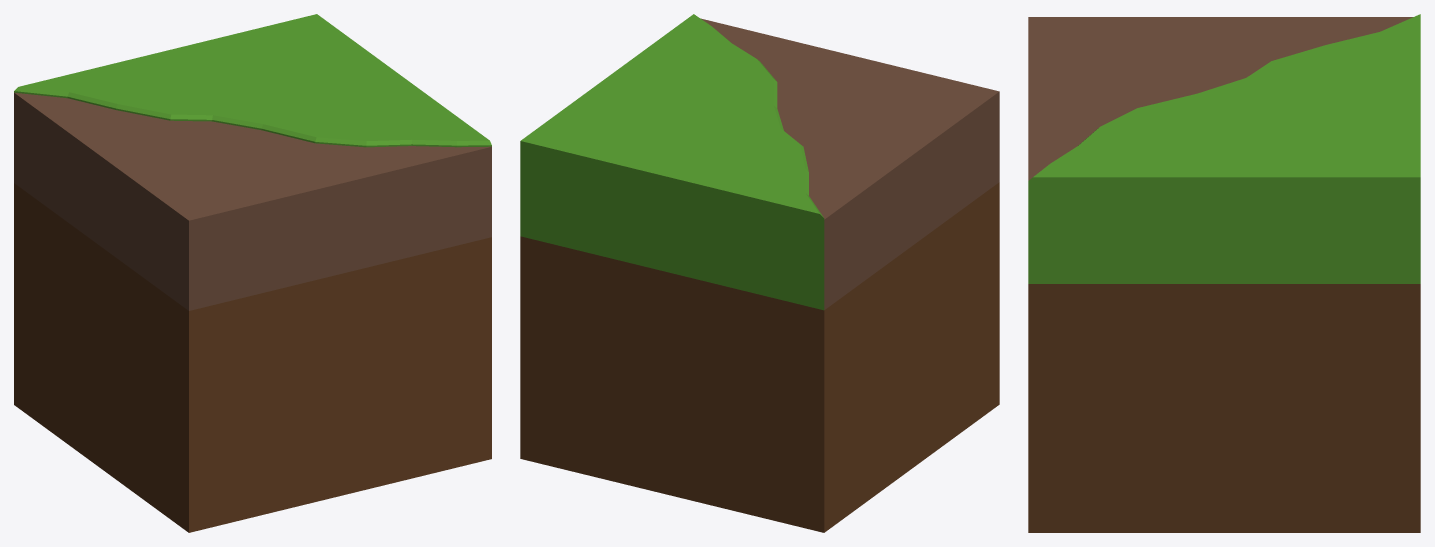
Rendered from Grass-Ground 4.fbx.
3 views of the same model, side by side, from view 1: azimuth 30°, elevation 25°; view 2: azimuth 150°, elevation 25°; view 3: azimuth 270°, elevation 25° (orthographic). The views are drawn at different scales.
Visible parts, largest first — view 1: Grass/Ground corner 3; view 2: Grass/Ground corner 3; view 3: Grass/Ground corner 3.
Part boxes in pixels (left/top/right/bottom): Grass/Ground corner 3: left=14, top=14, right=491, bottom=532; Grass/Ground corner 3: left=520, top=14, right=999, bottom=532; Grass/Ground corner 3: left=1028, top=14, right=1420, bottom=532.
Size of the model in its own units: 2 by 2 by 2.
